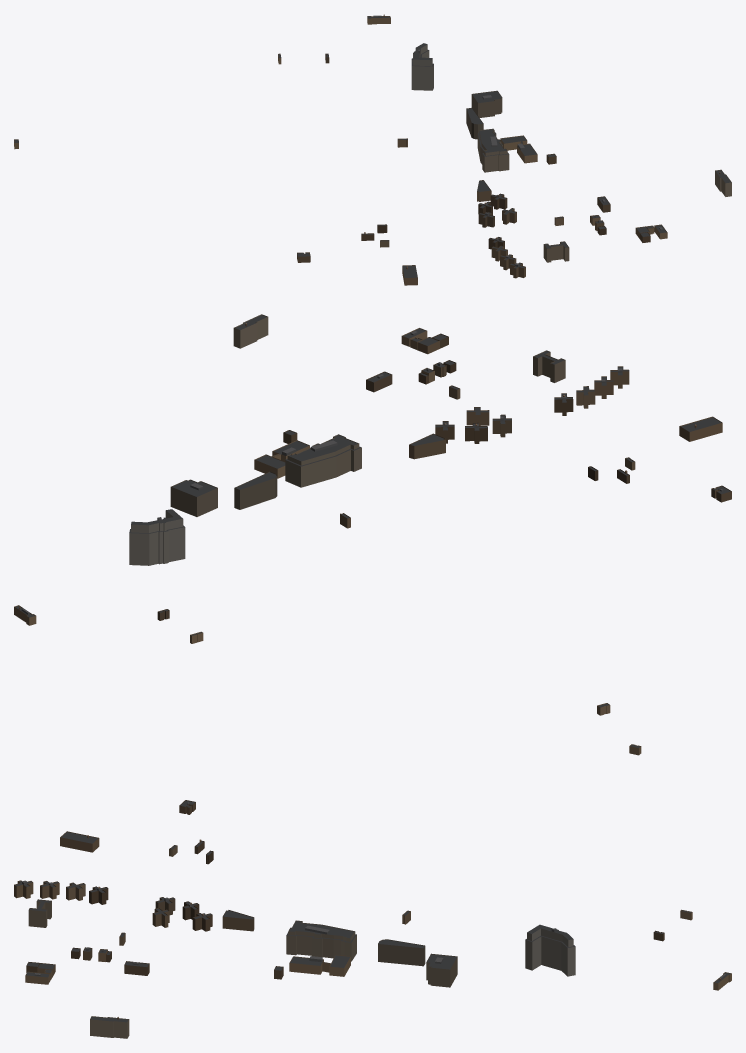
Rendered from manhattan_-05_-03.glb.
The picture shows the model from 3 angles, top to bottom: view 1: azimuth 30°, elevation 25°; view 2: azimuth 150°, elevation 25°; view 3: azimuth 270°, elevation 25°; orthographic projection. The views are drawn at different scales.
Parts seen in each view (by area): view 1: BLD_lowrise_-05_-03, BLD_midrise_-05_-03; view 2: BLD_midrise_-05_-03, BLD_lowrise_-05_-03; view 3: BLD_midrise_-05_-03, BLD_lowrise_-05_-03.
Part boxes in pixels (x1=…): BLD_lowrise_-05_-03: x1=14, y1=14, x2=667, y2=285; BLD_midrise_-05_-03: x1=411, y1=43, x2=731, y2=262; BLD_midrise_-05_-03: x1=129, y1=314, x2=565, y2=565; BLD_lowrise_-05_-03: x1=14, y1=328, x2=731, y2=715; BLD_midrise_-05_-03: x1=28, y1=899, x2=575, y2=1038; BLD_lowrise_-05_-03: x1=14, y1=744, x2=731, y2=990.
Size of the model in its own units: 1291 by 79.94 by 1362.
